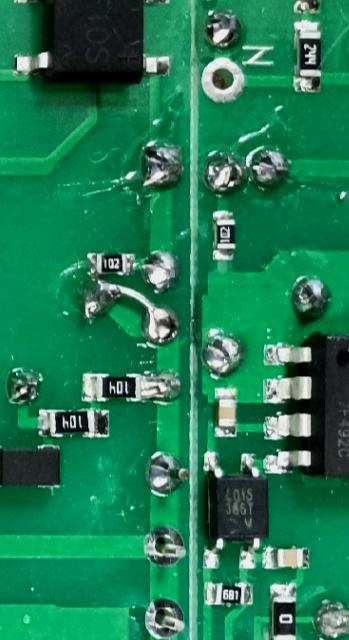chip-capacitor: (211, 386, 237, 439), (261, 546, 310, 570)
chip-resistor: (36, 408, 112, 440), (289, 20, 322, 92), (79, 372, 144, 404), (266, 582, 298, 640), (201, 580, 253, 608), (210, 208, 236, 262), (86, 251, 138, 277)
diode: (0, 442, 63, 490)
ic: (10, 0, 170, 84), (260, 330, 349, 479), (199, 451, 268, 572)
